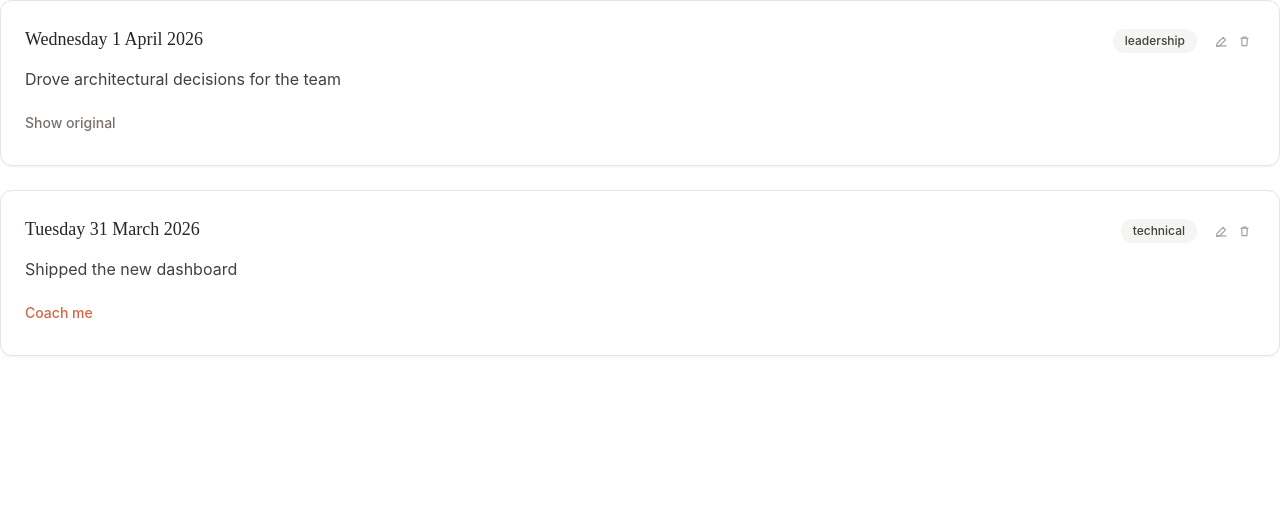
Test: EntryList — edit flow › pre-fills with the original text when no reframed exists
The width and height of the screenshot is (1280, 521).
Click the button named "Edit entry" next to "technical" at [1222, 231], box [1211,220,1232,242]
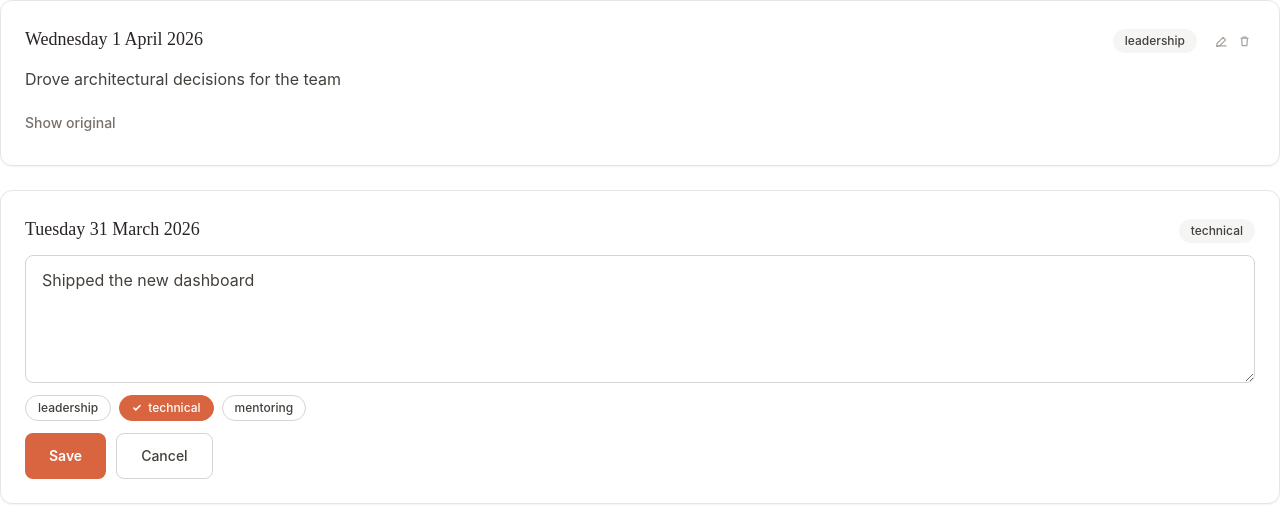
Now the text box named "Edit entry text" holds "Shipped the new dashboard", box [25,255,1255,383]
